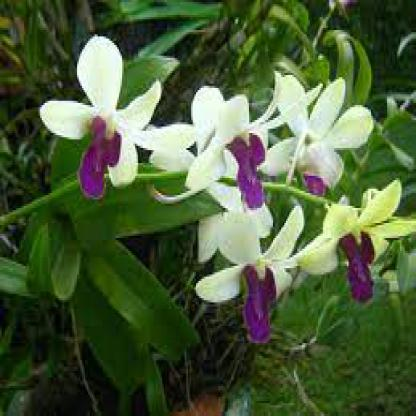ANGGREK: (40, 27, 409, 359)
